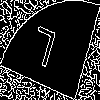L: (25, 25, 58, 77)
